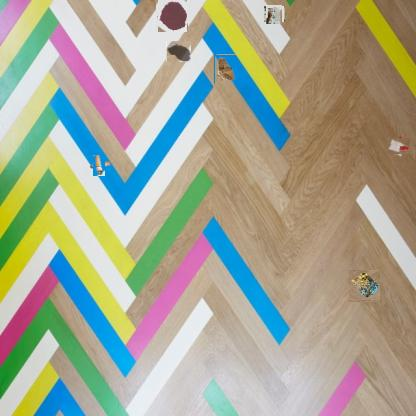dirty: (349, 271, 380, 301), (214, 54, 236, 84), (388, 136, 408, 156), (266, 5, 284, 23), (91, 157, 108, 173)
liquid: (156, 1, 188, 32), (166, 40, 191, 62)
